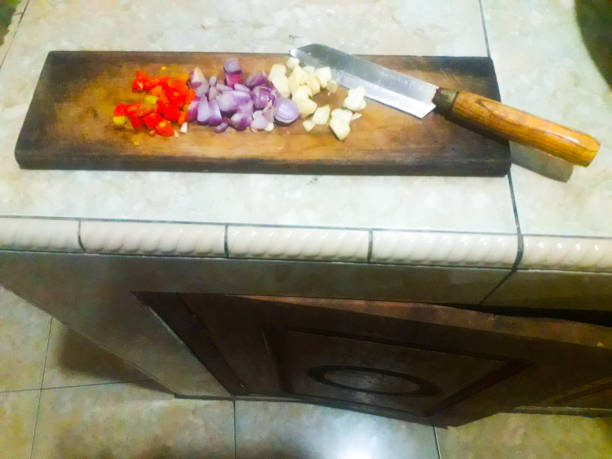knife: (287, 42, 603, 169)
